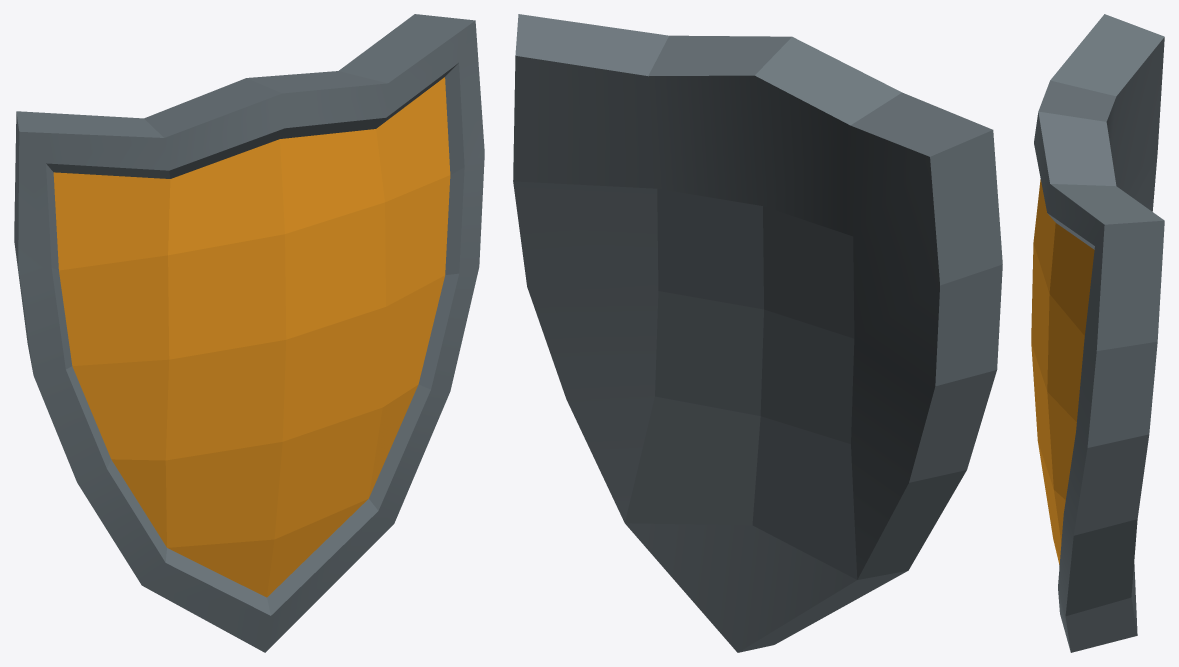
Rendered from SM_Icon_Shield_01.fbx.
3 views of the same model, side by side, from view 1: azimuth 30°, elevation 25°; view 2: azimuth 150°, elevation 25°; view 3: azimuth 270°, elevation 25° (orthographic). The views are drawn at different scales.
Visible parts, largest first — view 1: SM_Icon_Shield_01; view 2: SM_Icon_Shield_01; view 3: SM_Icon_Shield_01.
Part boxes in pixels (bbox=[...]): SM_Icon_Shield_01: bbox=[14, 14, 484, 652]; SM_Icon_Shield_01: bbox=[513, 14, 1002, 652]; SM_Icon_Shield_01: bbox=[1031, 14, 1164, 652].
Size of the model in its own units: 50.94 by 59.7 by 13.35.
